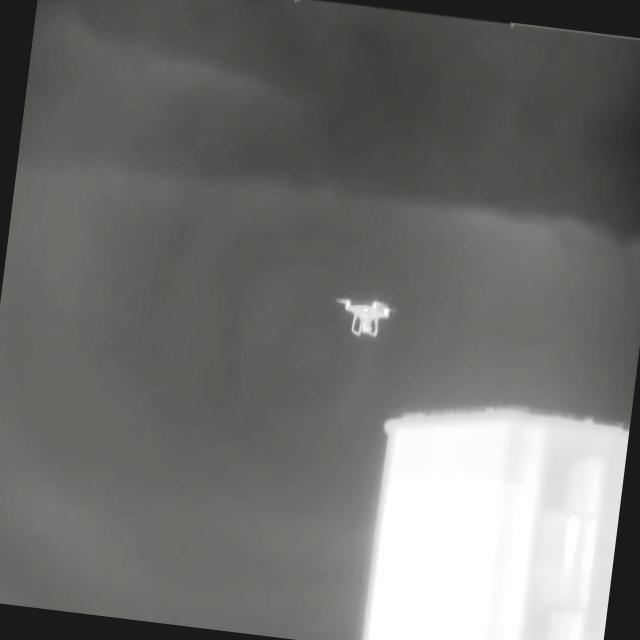DRONE: (336, 291, 397, 340)
